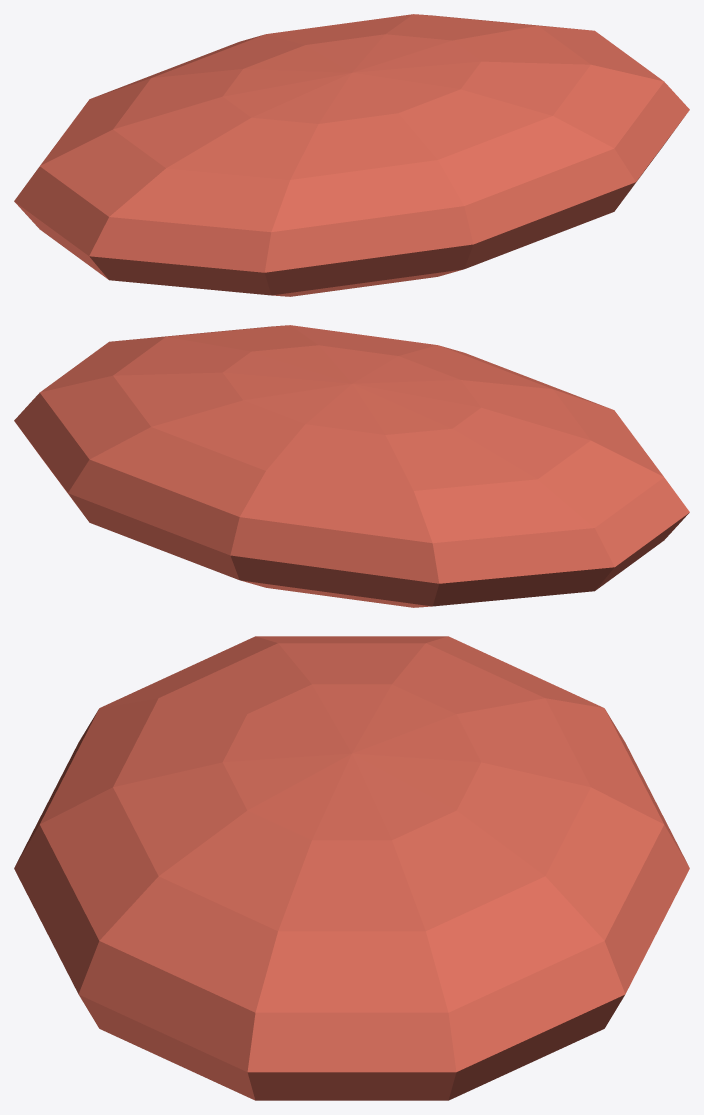
Rendered from raw_meat.dae.
3 views of the same model, one above another, from view 1: azimuth 30°, elevation 25°; view 2: azimuth 150°, elevation 25°; view 3: azimuth 270°, elevation 25° (orthographic). The views are drawn at different scales.
Parts seen in each view (by area): view 1: Sphere; view 2: Sphere; view 3: Sphere.
Part boxes in pixels (left/top/right/bottom): Sphere: left=14, top=14, right=689, bottom=296; Sphere: left=14, top=325, right=689, bottom=607; Sphere: left=14, top=636, right=689, bottom=1100.
Bounding box in the file's own units: 34.24 × 24 × 9.
